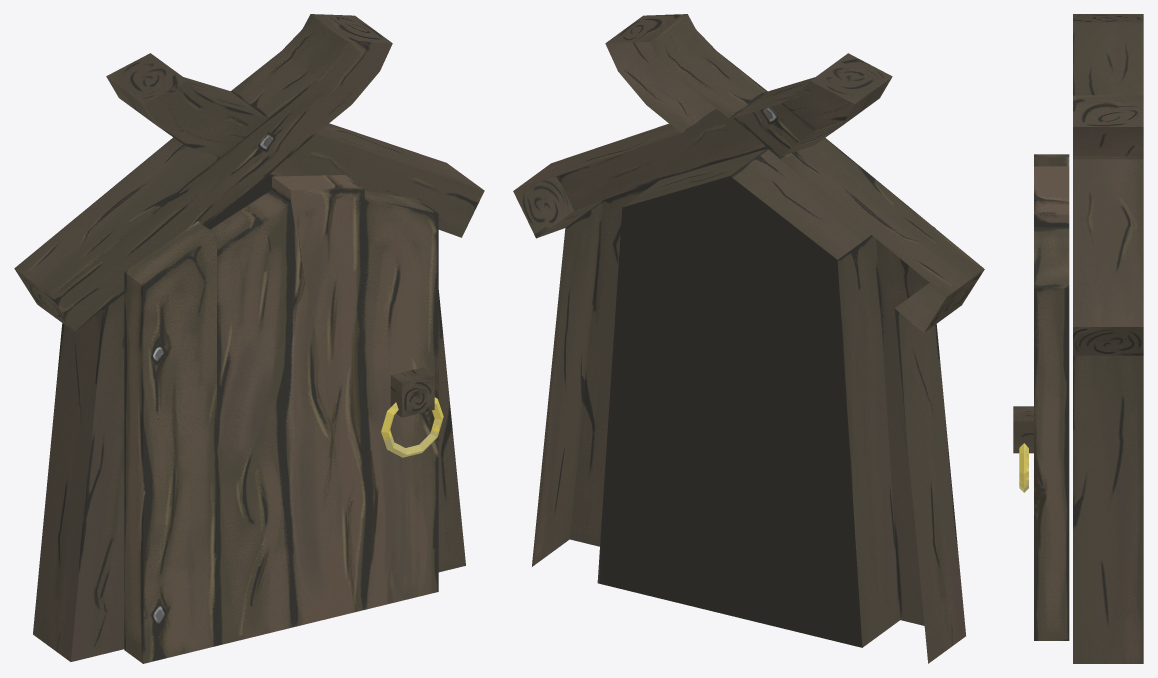
Rendered from polysurface580_txt_porte_new1_0_lev1_lev2.glb.
3 views of the same model, side by side, from view 1: azimuth 30°, elevation 25°; view 2: azimuth 150°, elevation 25°; view 3: azimuth 270°, elevation 25° (orthographic). The views are drawn at different scales.
Visible parts, largest first — view 1: polysurface580_txt_porte_new1_0_lev1_lev2; view 2: polysurface580_txt_porte_new1_0_lev1_lev2; view 3: polysurface580_txt_porte_new1_0_lev1_lev2.
Boxes of the visible parts, x1,y1,x2,y2 form: polysurface580_txt_porte_new1_0_lev1_lev2: (14, 14, 484, 663); polysurface580_txt_porte_new1_0_lev1_lev2: (513, 14, 984, 663); polysurface580_txt_porte_new1_0_lev1_lev2: (1013, 14, 1143, 663).
Bounding box in the file's own units: 2.17 × 2.65 × 0.6084.
Materials: 1 (1 with a texture image).
